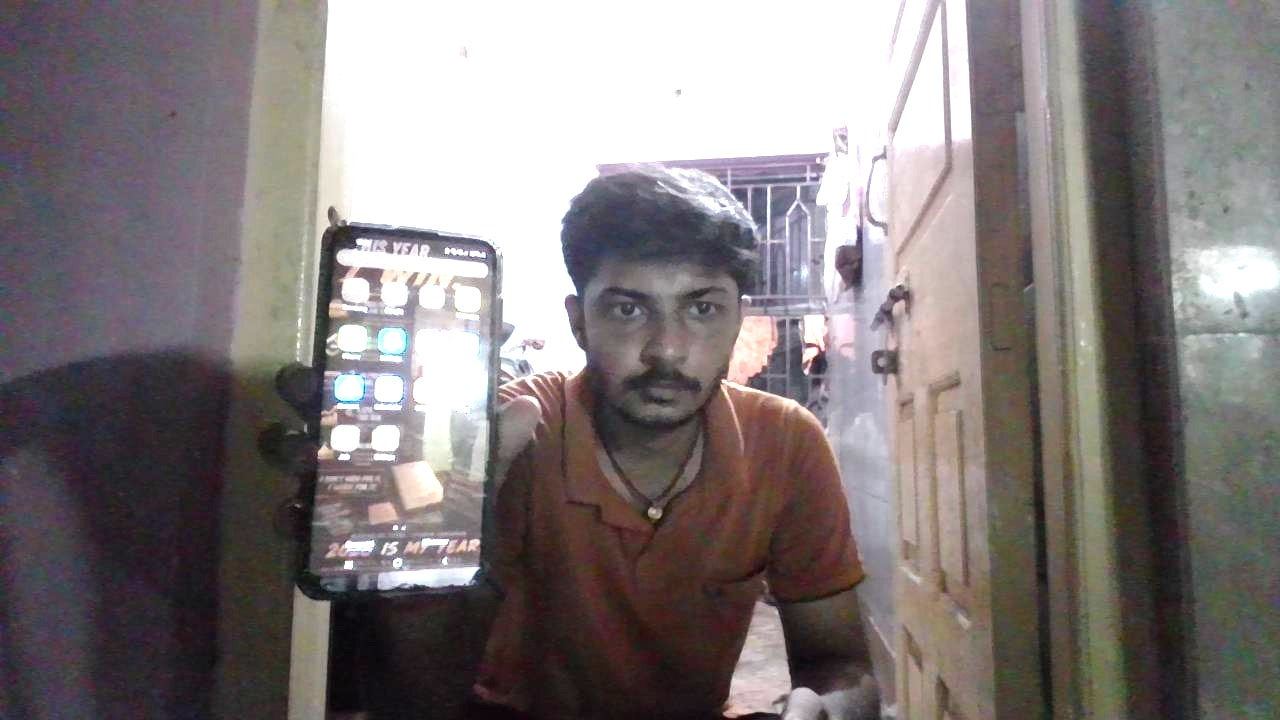red_box: (678, 394, 861, 586), (569, 438, 650, 543)
